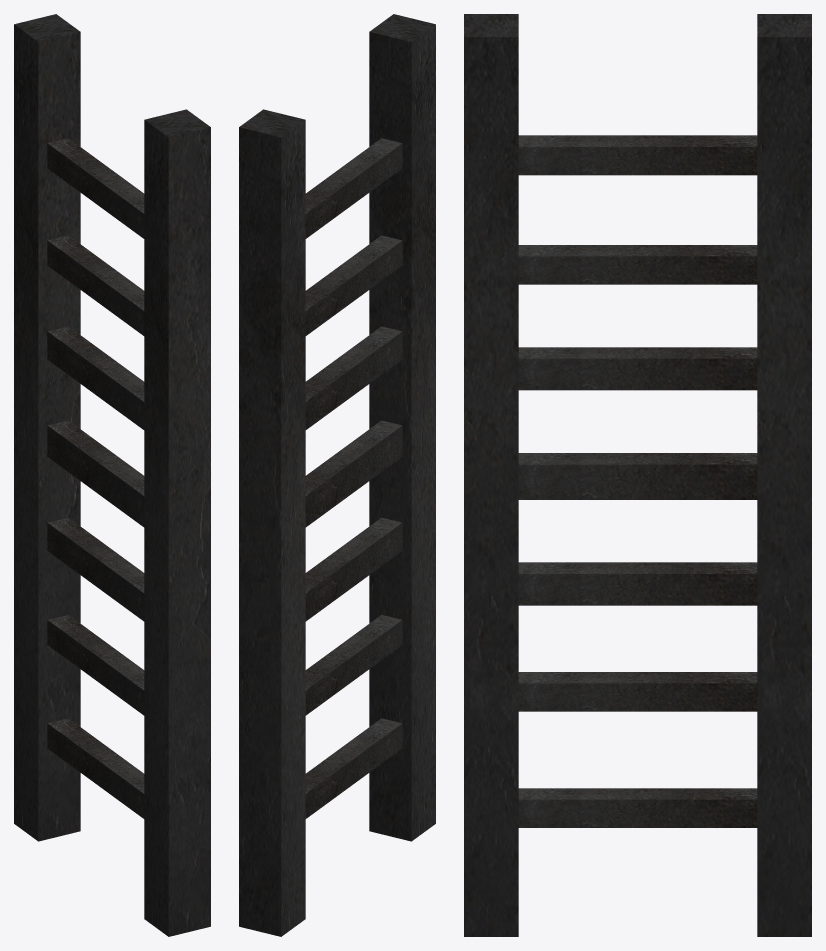
The model's file is trap1.obj.
The picture shows the model from 3 angles, left to right: view 1: azimuth 30°, elevation 25°; view 2: azimuth 150°, elevation 25°; view 3: azimuth 270°, elevation 25°; orthographic projection. The views are drawn at different scales.
Visible parts, largest first — view 1: Group; view 2: Group; view 3: Group.
Part boxes in pixels (x1,y1,x2,y2): Group: (14, 14, 210, 936); Group: (239, 14, 435, 936); Group: (464, 14, 811, 936).
Bounding box in the file's own units: 4.62 × 83.88 × 29.39.
